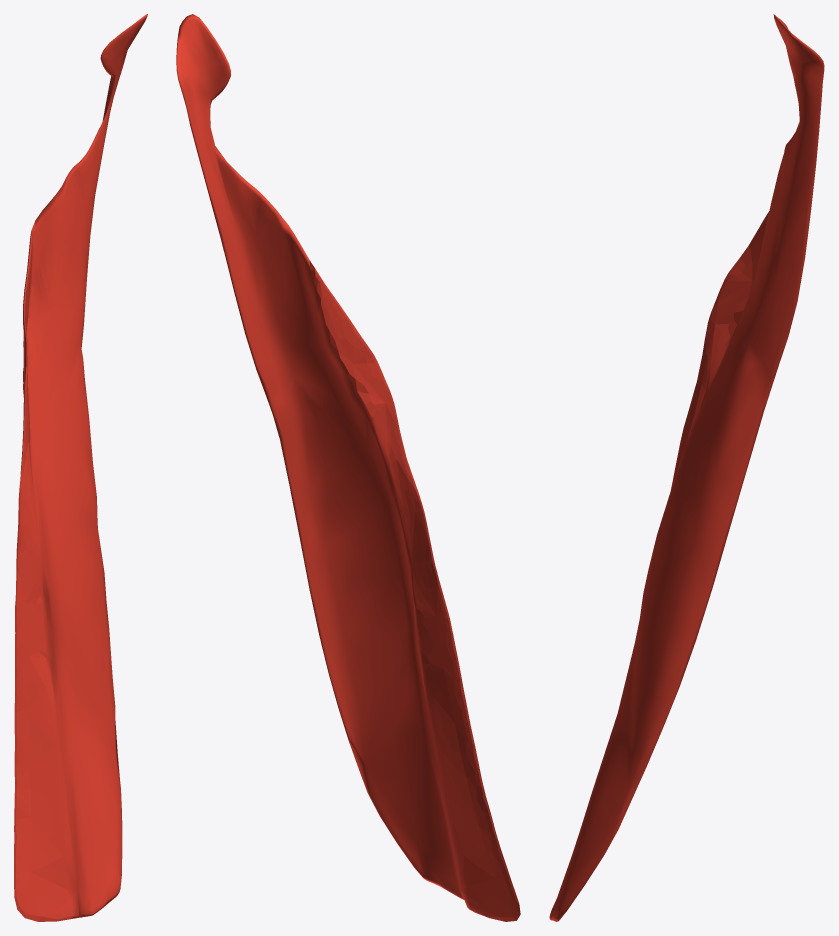
Rendered from Flexor_carpi_ulnaris_ulnar_head_ulnar_insertion_right.glb.
The picture shows the model from 3 angles, left to right: view 1: azimuth 30°, elevation 25°; view 2: azimuth 150°, elevation 25°; view 3: azimuth 270°, elevation 25°; orthographic projection. The views are drawn at different scales.
Visible parts, largest first — view 1: Ulnar_head_of_flexor_carpi_ulnaris-Ulnar_insertion.r_Generat; view 2: Ulnar_head_of_flexor_carpi_ulnaris-Ulnar_insertion.r_Generat; view 3: Ulnar_head_of_flexor_carpi_ulnaris-Ulnar_insertion.r_Generat.
Boxes of the visible parts, x1,y1,x2,y2 form: Ulnar_head_of_flexor_carpi_ulnaris-Ulnar_insertion.r_Generat: (14,14,147,921); Ulnar_head_of_flexor_carpi_ulnaris-Ulnar_insertion.r_Generat: (176,14,520,921); Ulnar_head_of_flexor_carpi_ulnaris-Ulnar_insertion.r_Generat: (549,14,824,921).
Bounding box in the file's own units: 0.0405 × 0.1455 × 0.0364.
